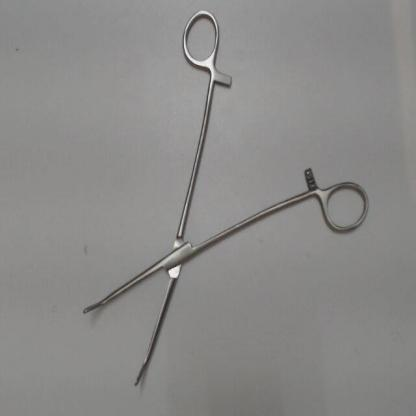Lahey Forceps: (74, 6, 374, 394)
